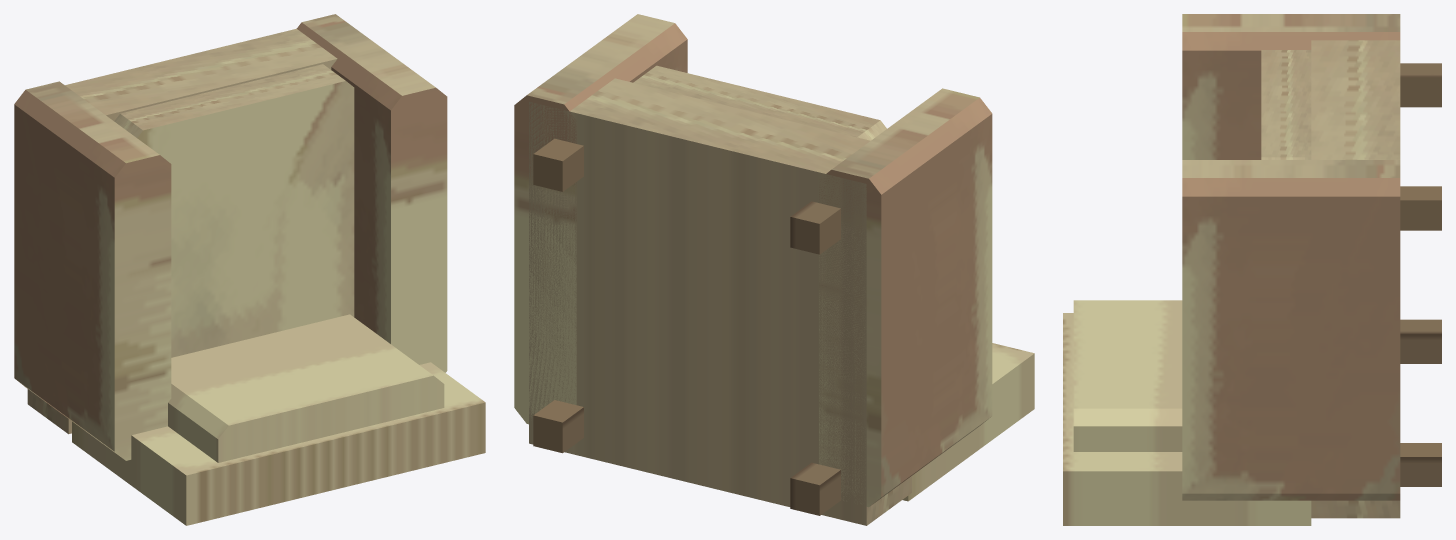
The model's file is pz_chair_seating_indoor_02_white_lazy.obj.
3 renders of one model, left to right at view 1: azimuth 30°, elevation 25°; view 2: azimuth 150°, elevation 25°; view 3: azimuth 270°, elevation 25°, orthographic. The views are drawn at different scales.
Parts seen in each view (by area): view 1: root; view 2: root; view 3: root.
Boxes of the visible parts, x1,y1,x2,y2 form: root: (14,14,485,525); root: (514,14,1034,525); root: (1063,14,1441,525).
Size of the model in its own units: 1 by 0.93 by 0.91.
1 material, 1 textured.
